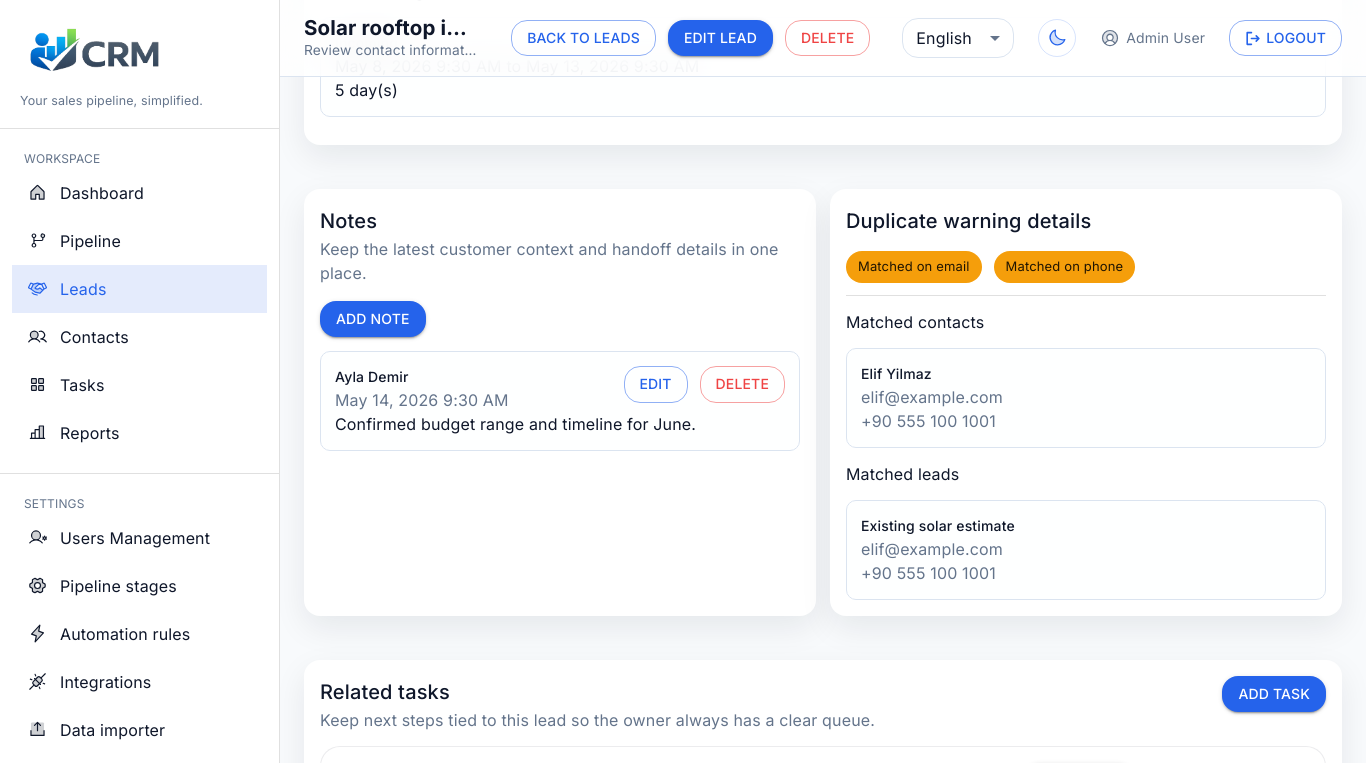
Test: Lead activity feature › deletes a note successfully
(page scrolled)
expect the heading "Solar rooftop installation" is shown: met, box [304,16,479,41]
Click the button "Delete" in the row of "May 14, 2026 9:30 AM" at (742, 385), box [700,366,785,403]
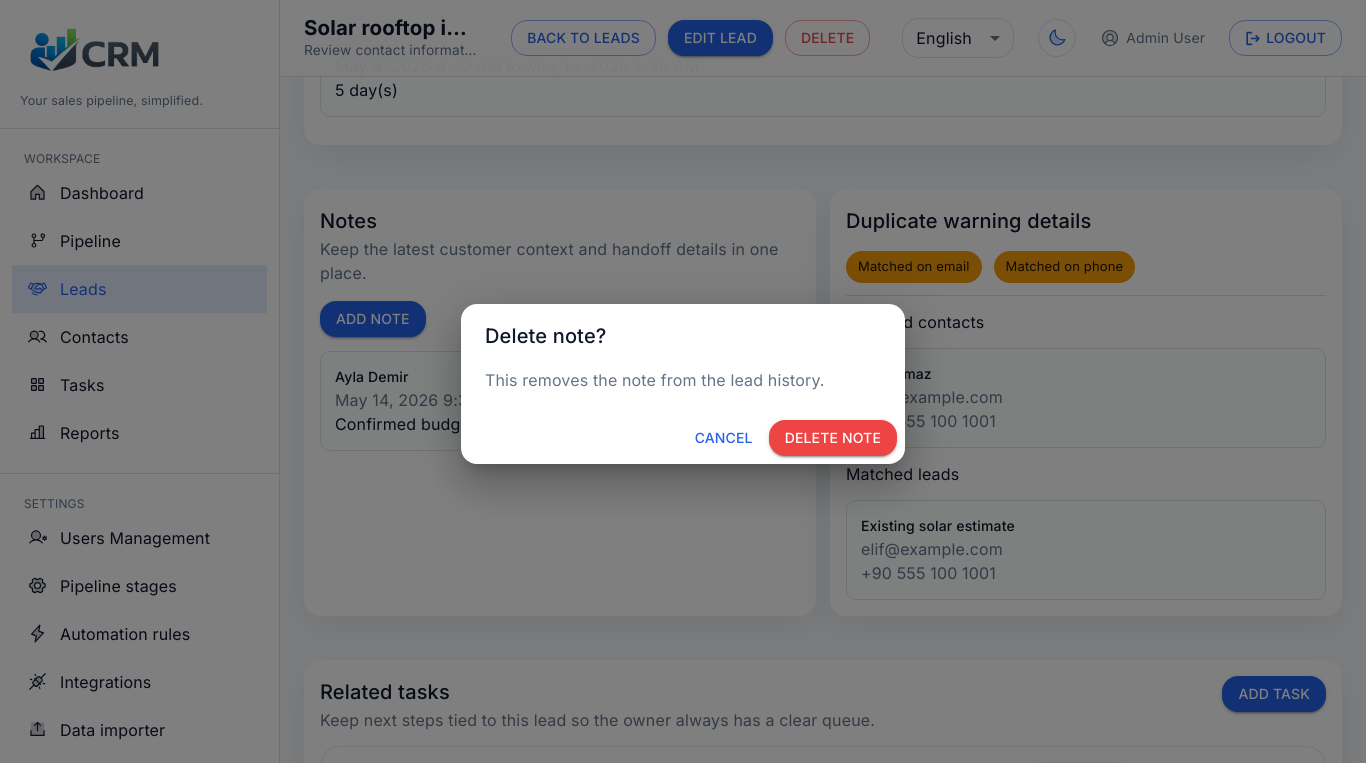
Click the button "Delete note" at (833, 438), box [769,420,897,456]
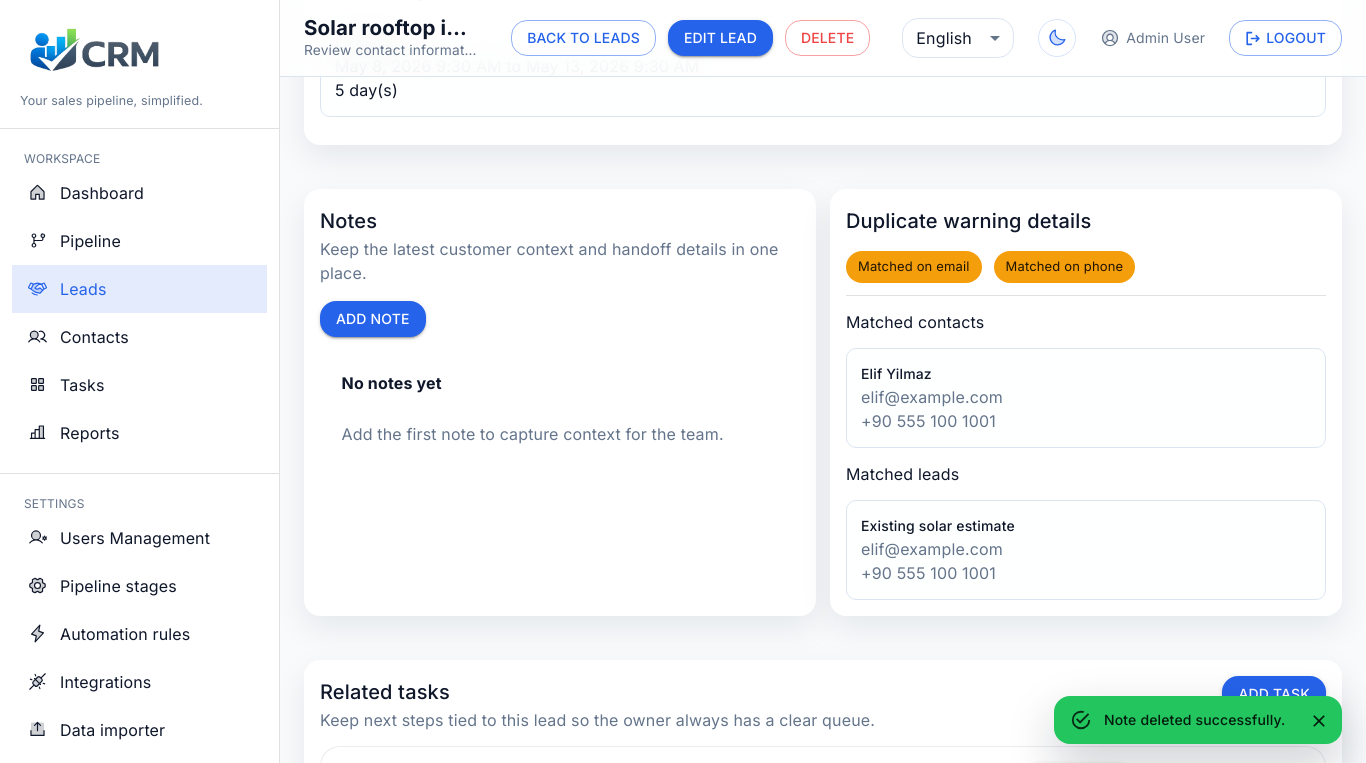
expect the text "Note deleted successfully." is shown: met, box [1104,711,1285,728]
expect the text "Confirmed budget range and timeline for June." is gone: met
